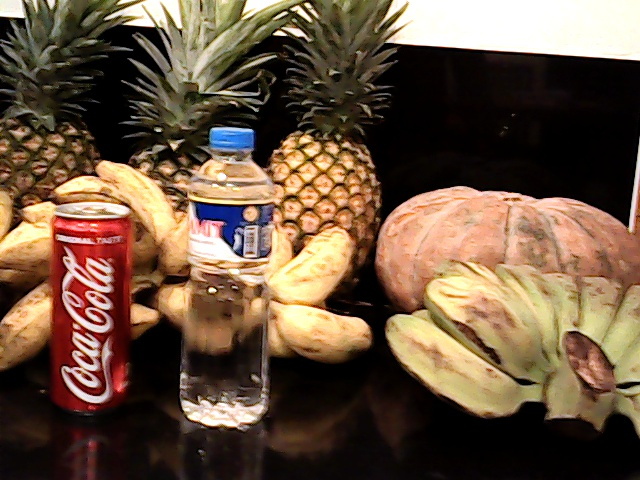Cola: (45, 195, 136, 407)
Summit Water: (179, 127, 279, 430)
